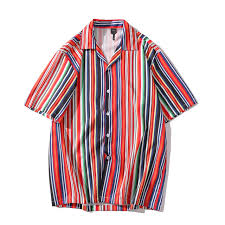striped: (24, 17, 202, 216)
